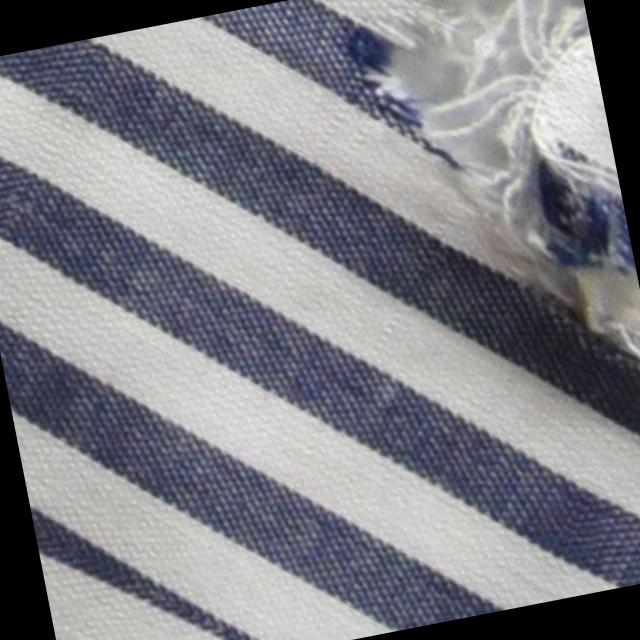cut: (359, 0, 630, 330)
